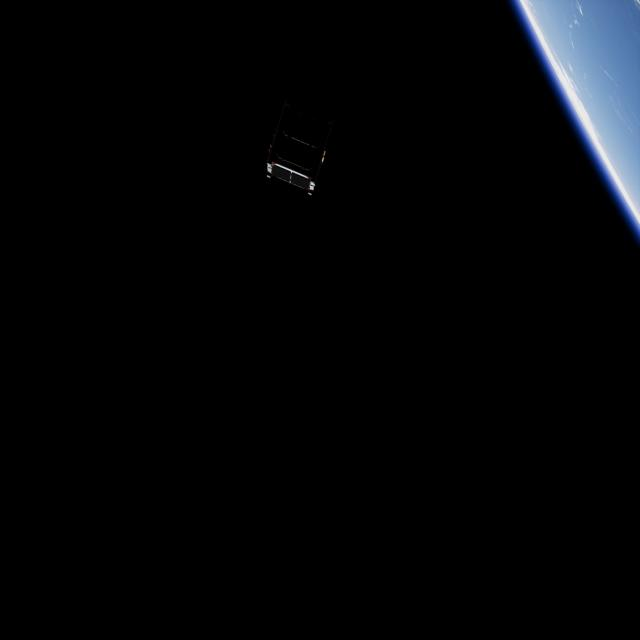satellite: (258, 120, 334, 198)
